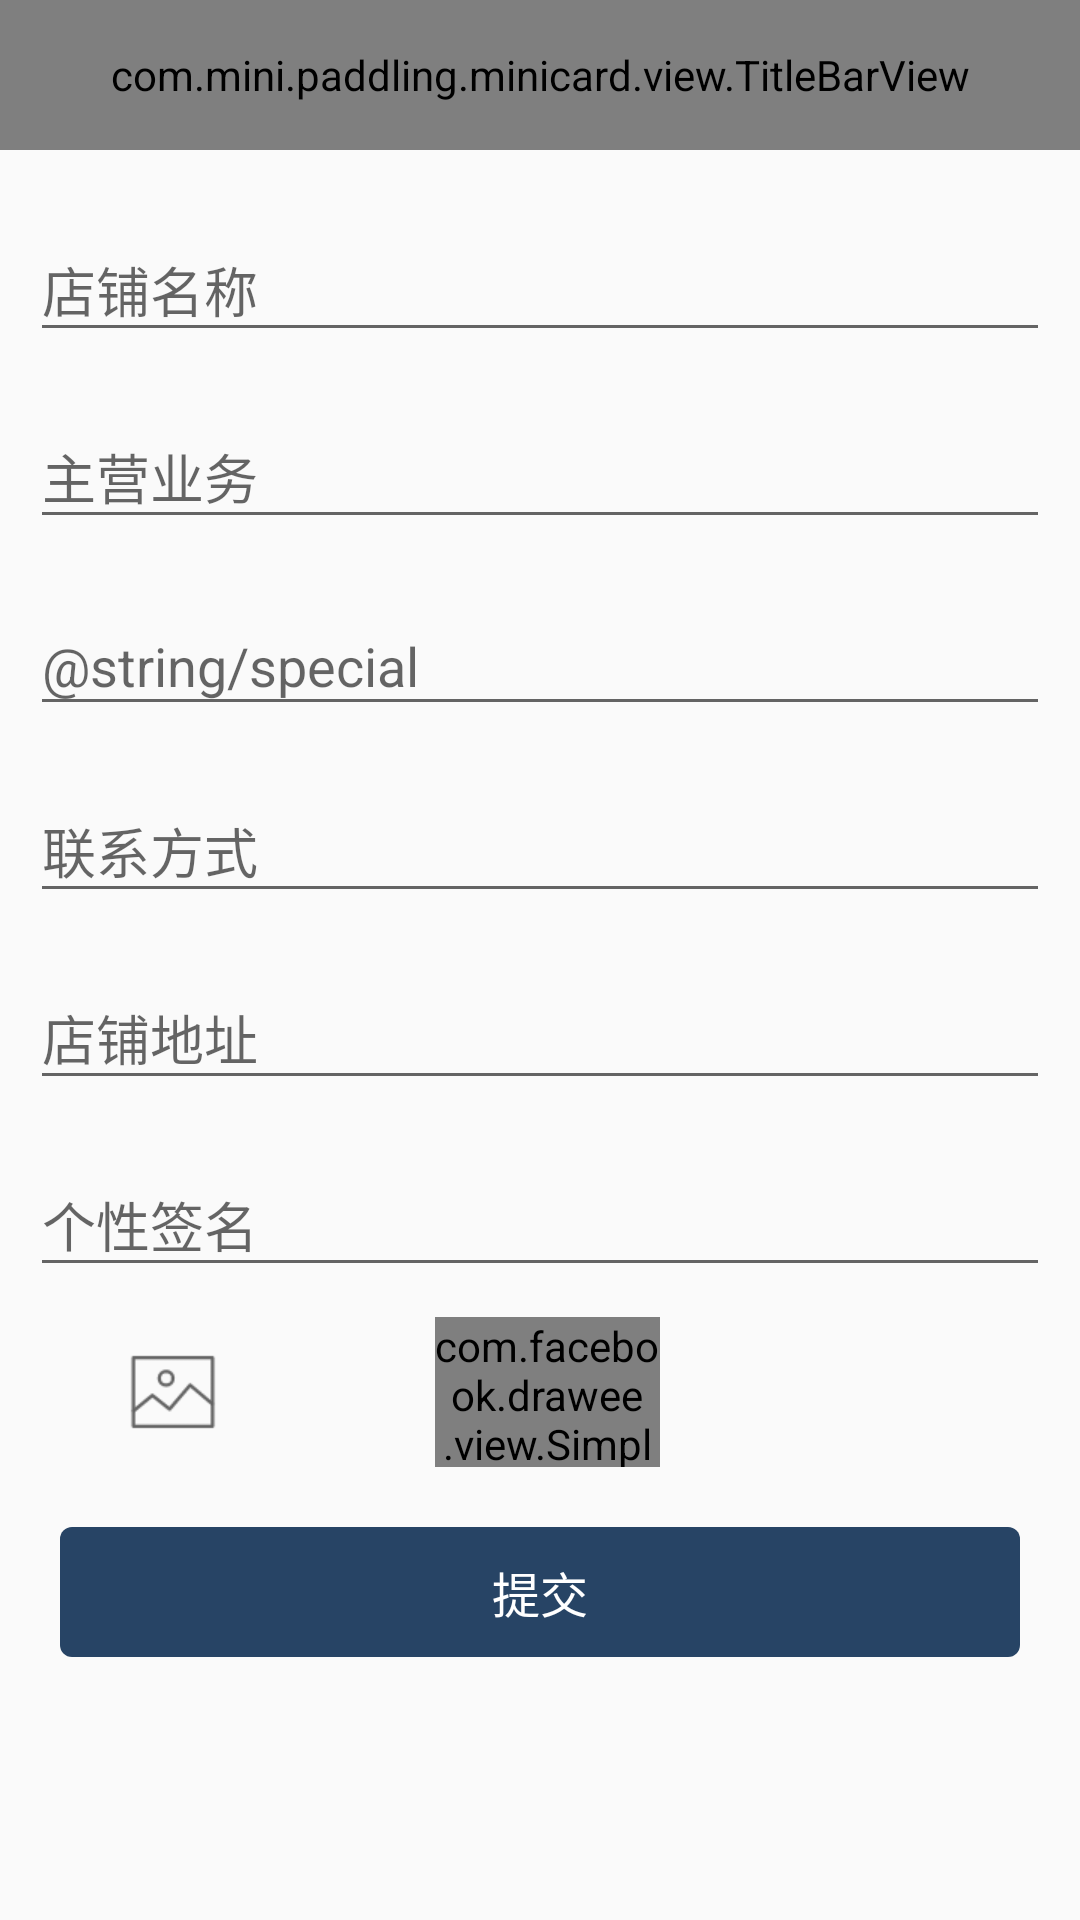

Icon bounding boxes for this 1080 x 1920 phone screenshot, format (x1, y1, x2, y2):
collect pic: (131, 1355, 215, 1429)
